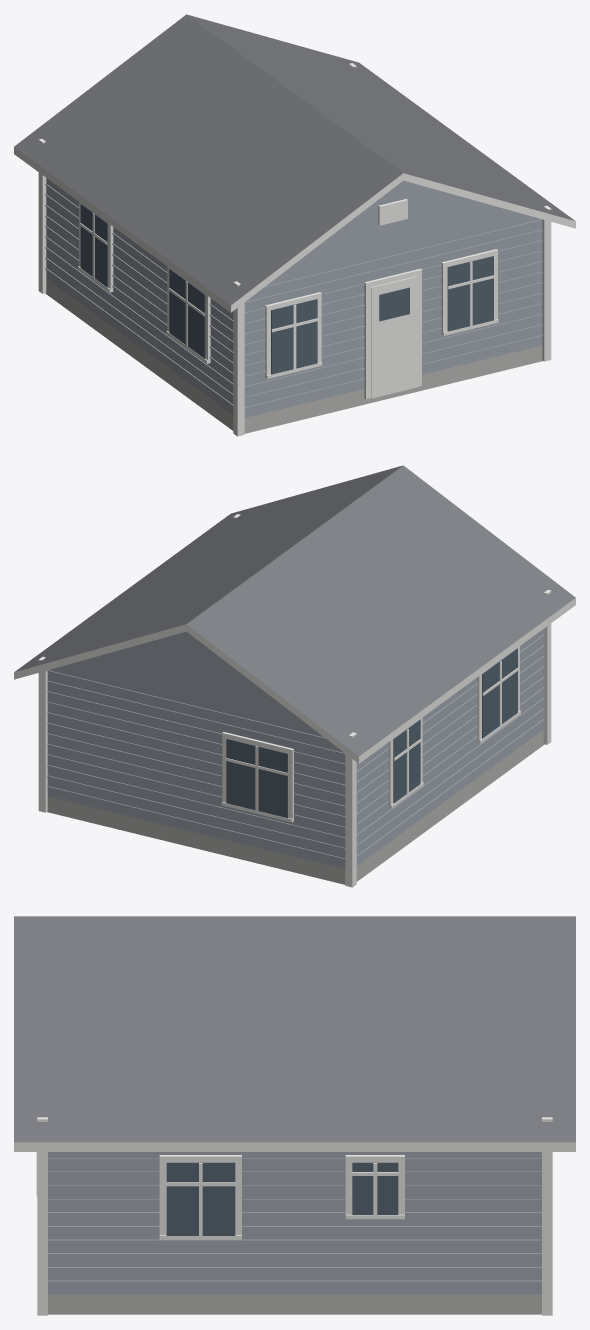
File: fig-cottage.glb
The picture shows the model from 3 angles, top to bottom: view 1: azimuth 30°, elevation 25°; view 2: azimuth 150°, elevation 25°; view 3: azimuth 270°, elevation 25°; orthographic projection. The views are drawn at different scales.
Visible parts, largest first — view 1: The Fig (cottage); view 2: The Fig (cottage); view 3: The Fig (cottage).
Part boxes in pixels (x1,y1,x2,y2): The Fig (cottage): (14,14,575,436); The Fig (cottage): (14,465,575,887); The Fig (cottage): (14,916,575,1315).
Size of the model in its own units: 6.86 by 4.42 by 7.47.
